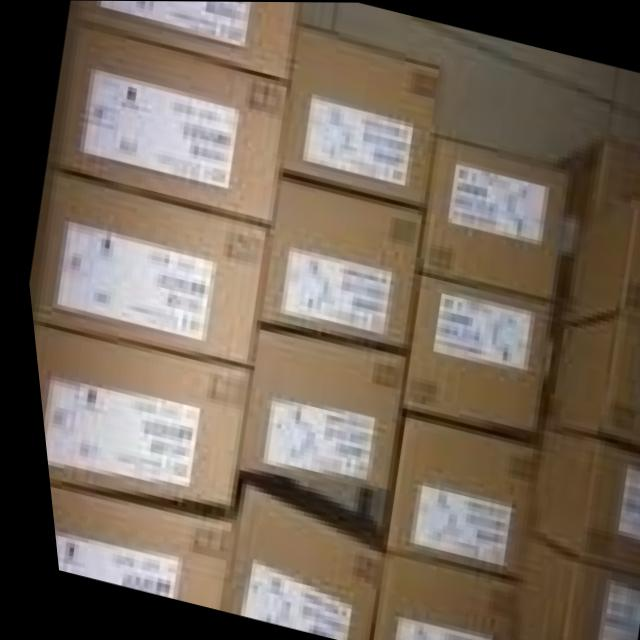box: (47, 26, 289, 224), (26, 169, 261, 364), (27, 328, 241, 505), (275, 26, 442, 206), (254, 180, 418, 347), (229, 324, 398, 484), (205, 484, 373, 640), (375, 417, 527, 576), (417, 137, 565, 298), (40, 485, 225, 610), (394, 275, 542, 430), (72, 0, 295, 78), (523, 429, 640, 571), (536, 313, 640, 446), (504, 533, 633, 640), (359, 550, 504, 640), (557, 199, 640, 323), (549, 137, 640, 250)
